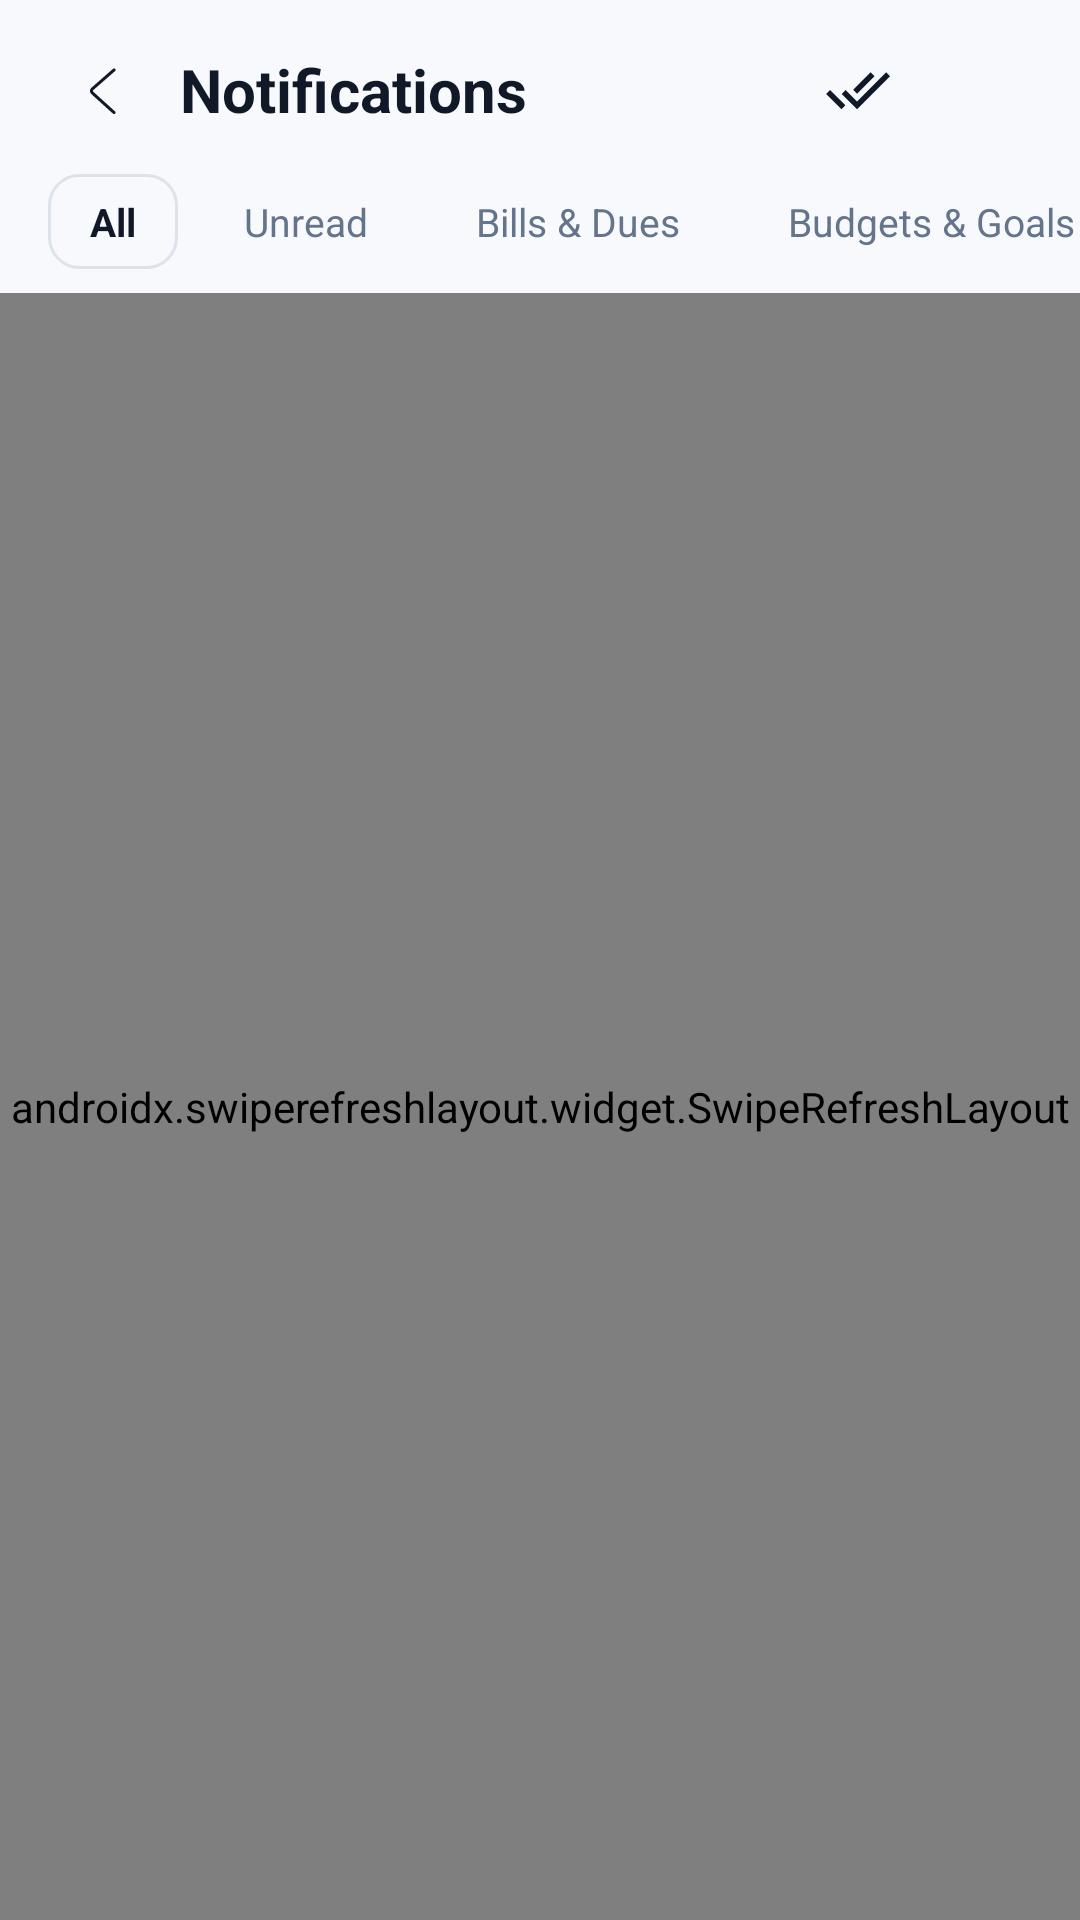

Icons on this 1080*1920 Android screen, each with the point to tap as (x=x, y=y):
Back: (x=103, y=91)
Mark all as read: (x=858, y=90)
